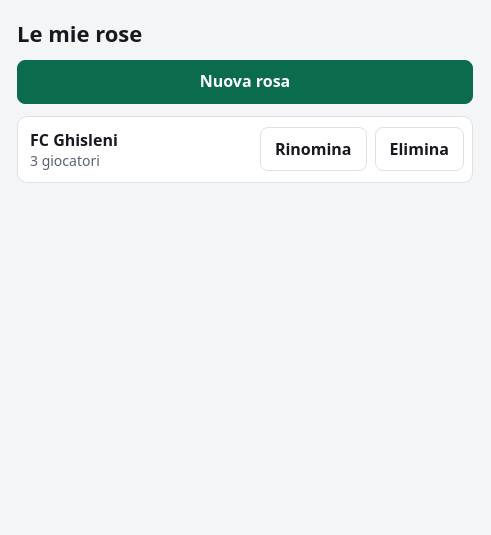
Scenario: the open squad can be renamed too
Step 1. Click the text "FC Ghisleni" → [74, 140], box [30, 128, 118, 151]
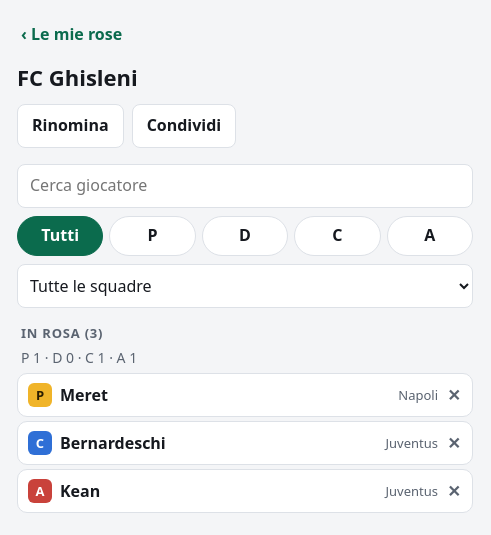
Step 2. Click the button "Rinomina" → [70, 126], box [17, 104, 124, 148]
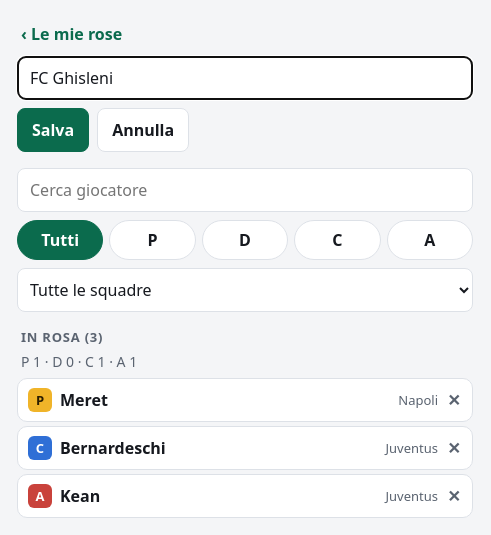
Step 3. Replace the text in the field named "Nome della rosa" with "Titolari" → [245, 78], box [17, 56, 473, 100]
Then press Enter
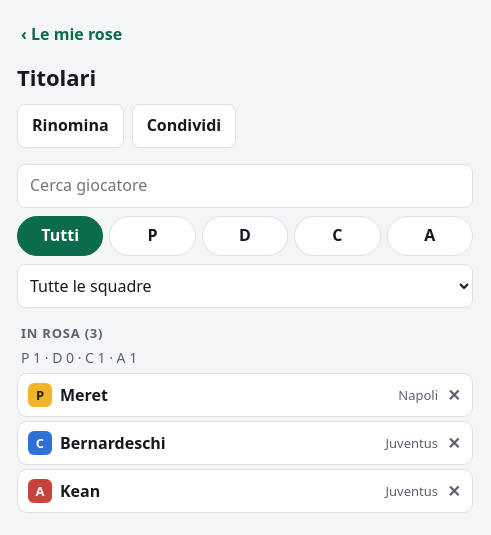
Expected: the heading "Titolari" is shown, [17, 62, 96, 92]
